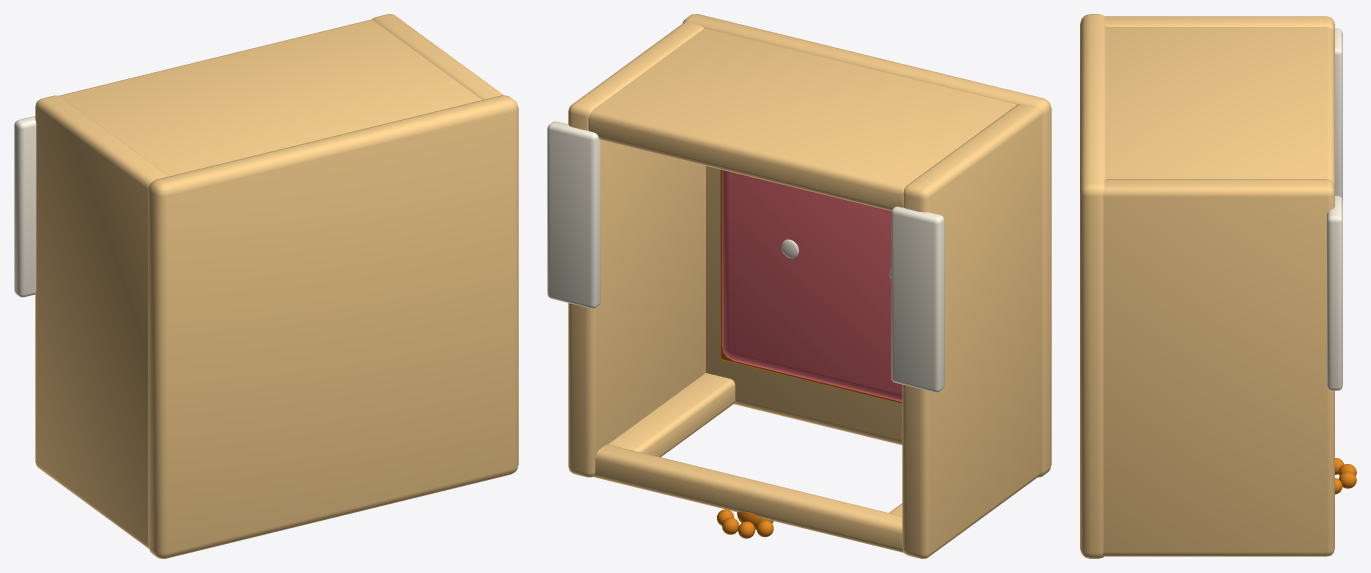
Rendered from CardboardHideout_Premium.fbx.
The picture shows the model from 3 angles, left to right: view 1: azimuth 30°, elevation 25°; view 2: azimuth 150°, elevation 25°; view 3: azimuth 270°, elevation 25°; orthographic projection.
Visible parts, largest first — view 1: CardboardHideout_Body; view 2: CardboardHideout_Body; view 3: CardboardHideout_Body.
Boxes of the visible parts, bbox=[...] form: CardboardHideout_Body: bbox=[14, 14, 518, 558]; CardboardHideout_Body: bbox=[547, 14, 1051, 558]; CardboardHideout_Body: bbox=[1080, 14, 1356, 558].
Bounding box in the file's own units: 0.7566 × 0.7159 × 0.4623.
